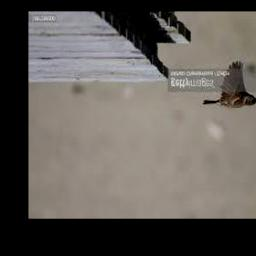Sparrow: (202, 62, 256, 107)
